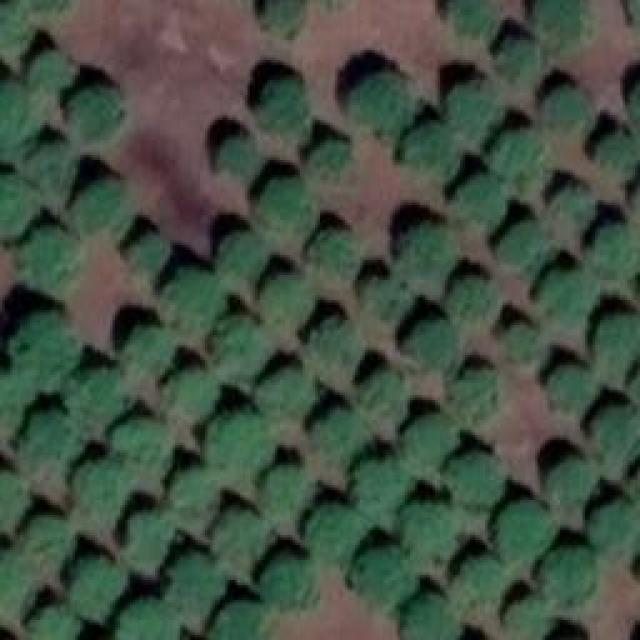Tree: (350, 68, 418, 141), (10, 313, 75, 388), (23, 230, 88, 295), (260, 170, 323, 233), (305, 500, 368, 563), (393, 218, 458, 278), (70, 368, 130, 431), (205, 410, 268, 470), (400, 130, 465, 188), (158, 282, 221, 340), (535, 262, 598, 320), (493, 500, 553, 560), (527, 0, 594, 52), (22, 145, 80, 205), (77, 178, 135, 238), (357, 545, 415, 605), (445, 85, 508, 140), (400, 503, 463, 558), (260, 548, 313, 611), (538, 548, 601, 601), (25, 413, 83, 468), (255, 365, 313, 420), (442, 453, 500, 508), (168, 550, 221, 610), (213, 232, 266, 290), (65, 555, 123, 608), (168, 462, 221, 520), (210, 318, 268, 371), (260, 270, 313, 328), (0, 79, 42, 152), (73, 85, 128, 140), (540, 453, 595, 508), (585, 500, 640, 555), (592, 308, 640, 371), (255, 75, 305, 133), (73, 457, 123, 515), (350, 460, 408, 510), (450, 175, 508, 225), (113, 417, 173, 465), (445, 0, 503, 48), (592, 402, 640, 460), (315, 230, 365, 285), (540, 85, 590, 138), (168, 363, 218, 416), (308, 318, 361, 368), (405, 413, 458, 463), (405, 592, 460, 640), (487, 133, 545, 178), (455, 555, 508, 603), (592, 223, 640, 276), (128, 230, 178, 280), (123, 510, 173, 560), (315, 413, 365, 463), (500, 220, 550, 270), (448, 270, 498, 320), (122, 330, 170, 380), (405, 315, 453, 365), (452, 372, 500, 420), (28, 48, 81, 91), (220, 510, 265, 560), (545, 365, 595, 410), (212, 602, 270, 640), (310, 137, 355, 185), (25, 515, 70, 563), (263, 465, 308, 513), (595, 130, 640, 175), (120, 600, 170, 640), (550, 185, 593, 230), (218, 137, 258, 185), (262, 0, 310, 38), (0, 180, 30, 240), (503, 598, 548, 638), (358, 275, 403, 315), (0, 0, 32, 55), (0, 548, 28, 608), (25, 607, 75, 640), (363, 370, 403, 410), (500, 323, 540, 363), (498, 38, 533, 83), (0, 378, 28, 431), (0, 472, 30, 520)
